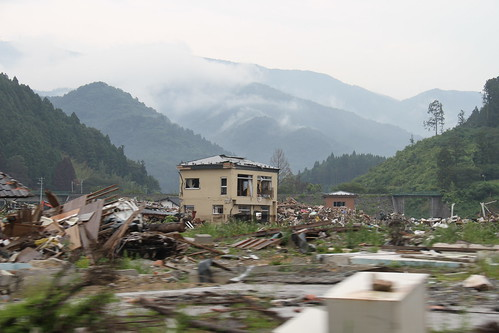building: (180, 154, 274, 225), (327, 189, 360, 222)
mountain: (56, 71, 256, 204), (167, 60, 442, 148), (1, 92, 148, 215), (375, 116, 499, 197), (278, 145, 386, 194)
sky: (1, 1, 487, 84)
trash: (1, 216, 485, 333)
